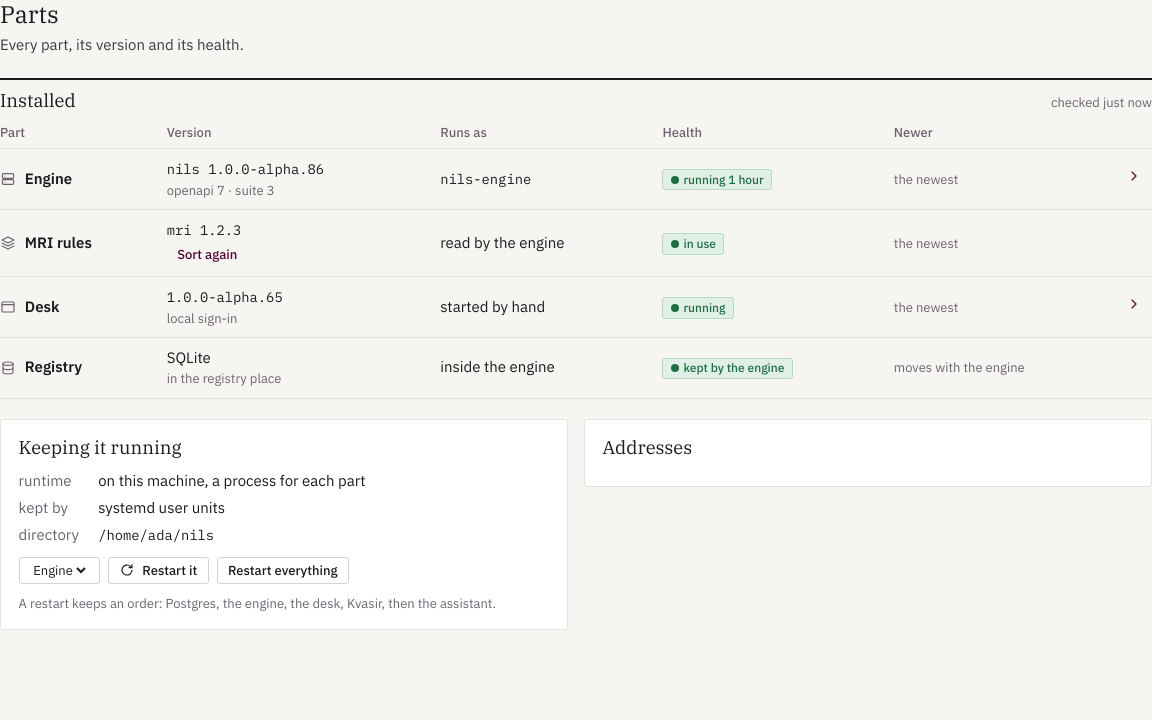
Test: Sort again, on the rules row › says the engine's refusal in place, and keeps the dialog to try again
Click the button "Sort again" at x=207, y=254, box [167,241,248,268]
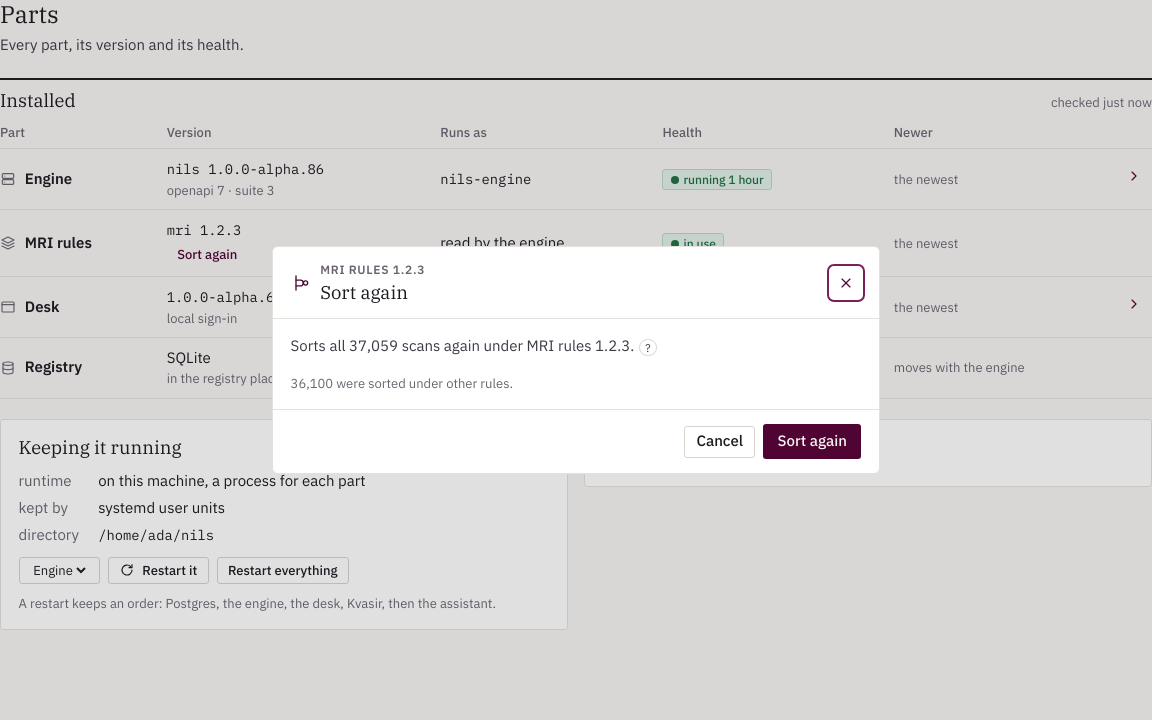
expect the button "Sort again" is shown: met
Click the button "Sort again" at x=812, y=442, box [763,424,861,459]
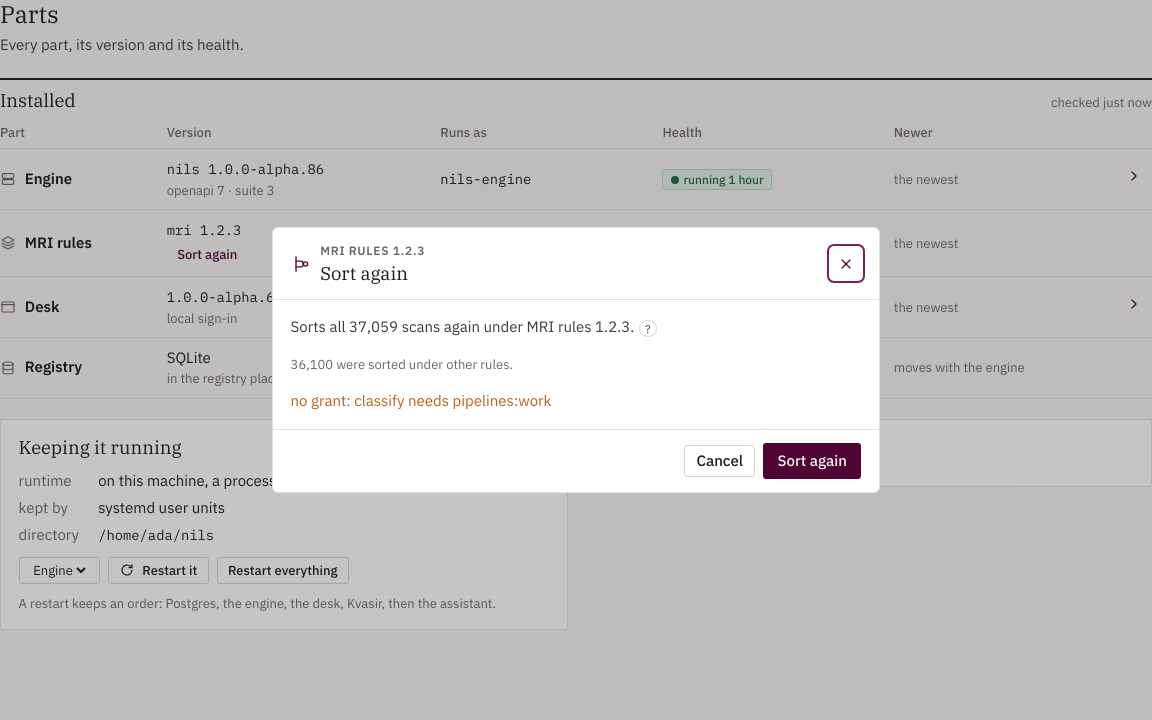
expect the button "Sort again" is enabled: met, box [763,443,861,479]
expect the dialog shows "no grant: classify needs pipelines:work": met, box [291,391,552,410]
